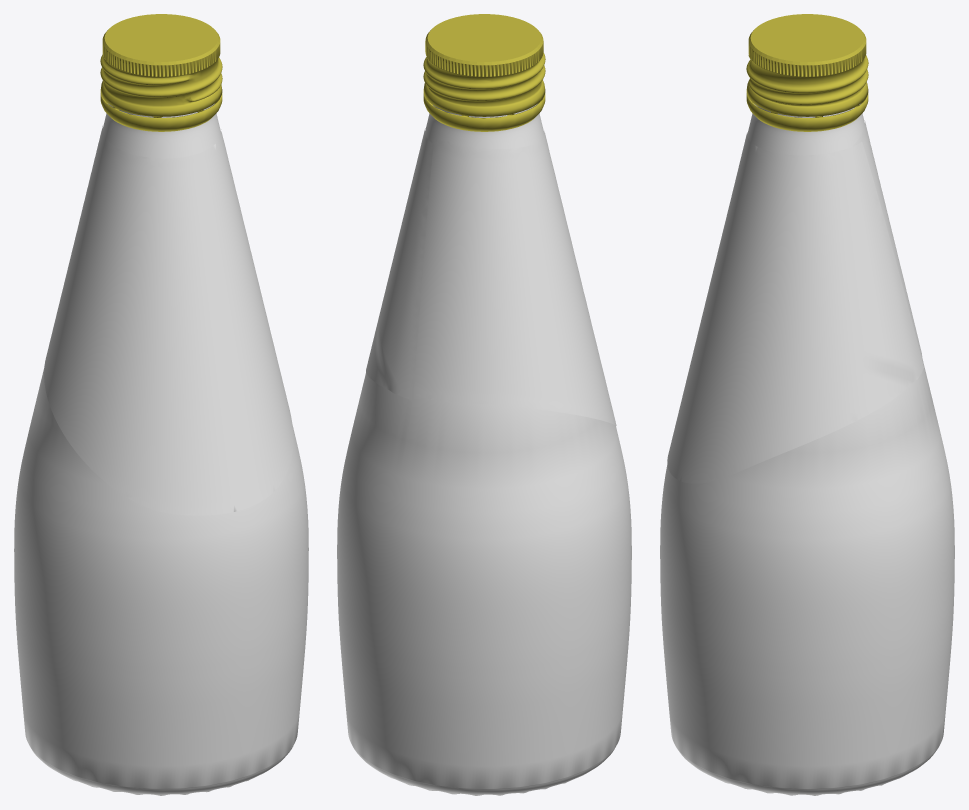
Rendered from glass-290-basil-web.glb.
The picture shows the model from 3 angles, left to right: view 1: azimuth 30°, elevation 25°; view 2: azimuth 150°, elevation 25°; view 3: azimuth 270°, elevation 25°; orthographic projection.
Visible parts, largest first — view 1: Basil web glass, Label, Golden Cap, Basil web neck; view 2: Basil web glass, Label, Golden Cap, Basil web neck; view 3: Basil web glass, Label, Golden Cap, Basil web neck.
Boxes of the visible parts, bbox=[...] form: Basil web glass: bbox=[14, 368, 308, 795]; Label: bbox=[44, 126, 293, 515]; Golden Cap: bbox=[100, 14, 222, 131]; Basil web neck: bbox=[102, 103, 221, 158]; Basil web glass: bbox=[337, 373, 631, 795]; Label: bbox=[366, 128, 616, 425]; Golden Cap: bbox=[423, 14, 545, 131]; Basil web neck: bbox=[425, 104, 544, 148]; Basil web glass: bbox=[660, 358, 954, 795]; Label: bbox=[667, 121, 923, 483]; Golden Cap: bbox=[746, 14, 868, 131]; Basil web neck: bbox=[747, 104, 864, 155].
Size of the model in its own units: 0.0682 by 0.1804 by 0.0682.
